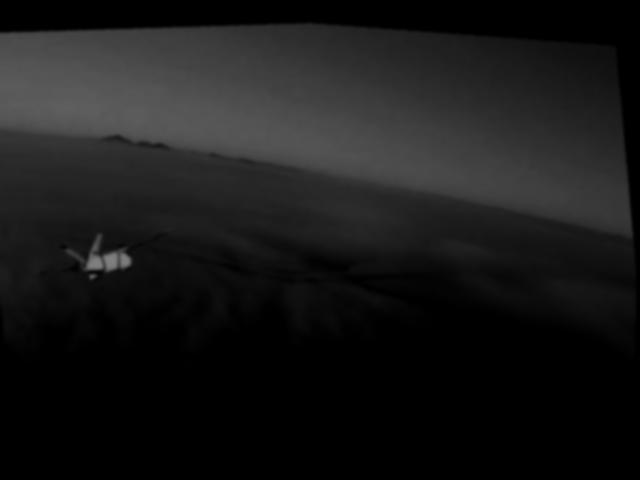hedef: (19, 208, 186, 301)
